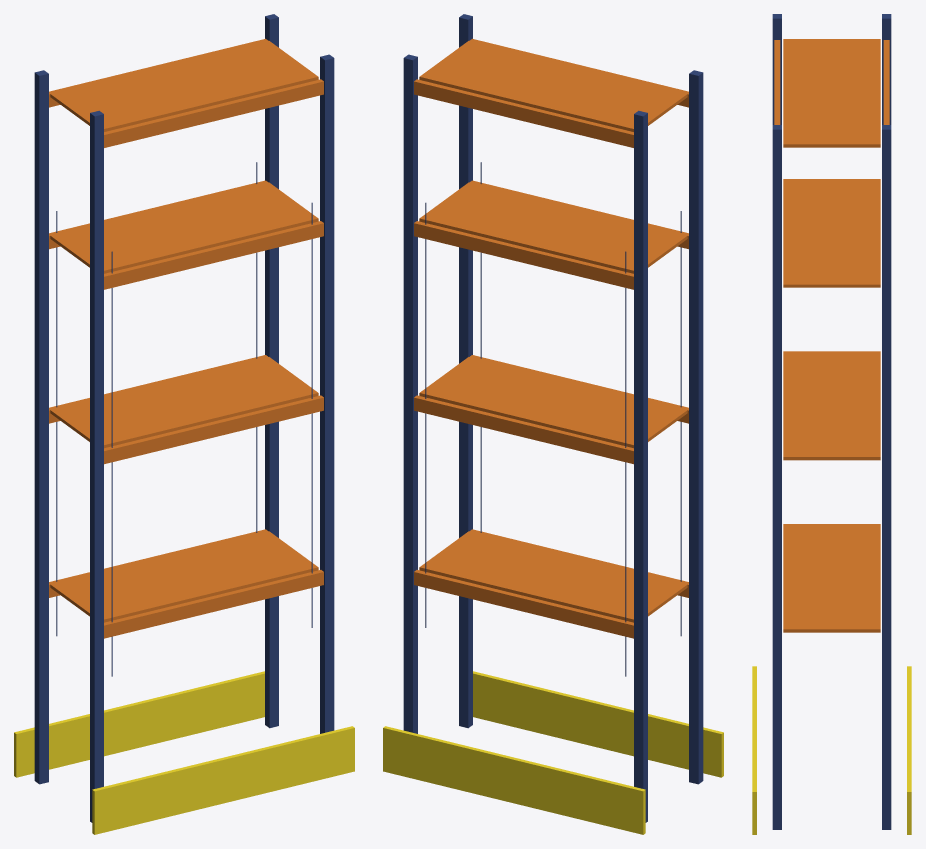
The model's file is shelf-beam-heavy-4level.glb.
3 renders of one model, left to right at view 1: azimuth 30°, elevation 25°; view 2: azimuth 150°, elevation 25°; view 3: azimuth 270°, elevation 25°, orthographic.
Parts seen in each view (by area): view 1: part_100, part_75, part_52, part_6, part_29, part_2, part_101, part_1, part_0, part_3, part_27, part_50 (+9 smaller); view 2: part_101, part_75, part_52, part_6, part_29, part_0, part_100, part_3, part_2, part_1, part_28, part_51 (+9 smaller); view 3: part_29, part_6, part_52, part_75, part_1, part_3, part_100, part_101, part_0, part_2, part_73, part_74.
Part boxes in pixels (<box>): part_100: <box>92,726,354,834</box>; part_75: <box>50,41,318,131</box>; part_52: <box>50,182,318,273</box>; part_6: <box>50,531,318,622</box>; part_29: <box>50,357,318,448</box>; part_2: <box>34,70,48,784</box>; part_101: <box>14,671,264,777</box>; part_1: <box>320,54,334,733</box>; part_0: <box>90,110,103,822</box>; part_3: <box>265,14,278,728</box>; part_27: <box>104,395,323,464</box>; part_50: <box>104,221,323,289</box>; part_101: <box>383,726,645,834</box>; part_75: <box>419,41,687,131</box>; part_52: <box>419,182,687,273</box>; part_6: <box>419,531,687,622</box>; part_29: <box>419,357,687,448</box>; part_0: <box>689,70,703,784</box>; part_100: <box>473,671,723,777</box>; part_3: <box>403,54,417,733</box>; part_2: <box>634,110,647,822</box>; part_1: <box>459,14,472,728</box>; part_28: <box>414,395,633,464</box>; part_51: <box>414,221,633,289</box>; part_29: <box>783,351,880,460</box>; part_6: <box>783,524,880,632</box>; part_52: <box>783,179,880,287</box>; part_75: <box>783,39,880,147</box>; part_1: <box>772,125,781,829</box>; part_3: <box>882,125,891,829</box>; part_100: <box>752,666,756,834</box>; part_101: <box>907,666,911,834</box>; part_0: <box>772,14,781,124</box>; part_2: <box>882,14,891,124</box>; part_73: <box>774,40,780,124</box>; part_74: <box>883,40,889,124</box>.
Size of the model in its own units: 2500 by 6500 by 1340.
